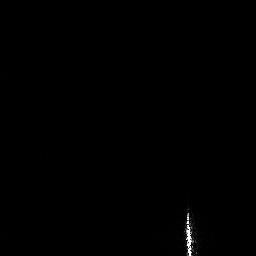ship: (183, 206, 199, 256)
